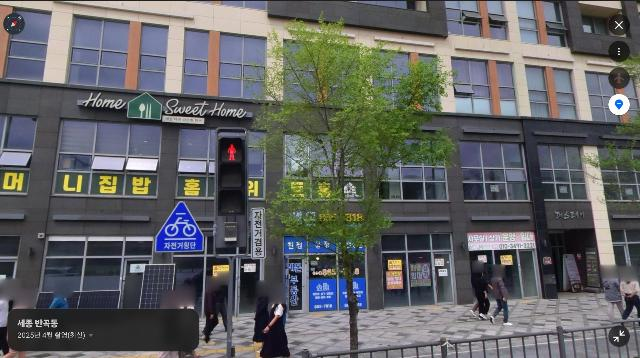other: (246, 11, 458, 354), (584, 114, 640, 223)
